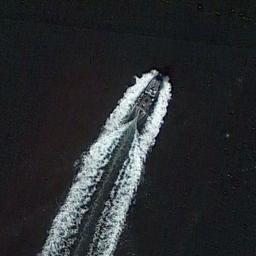boat: (134, 70, 166, 114)
